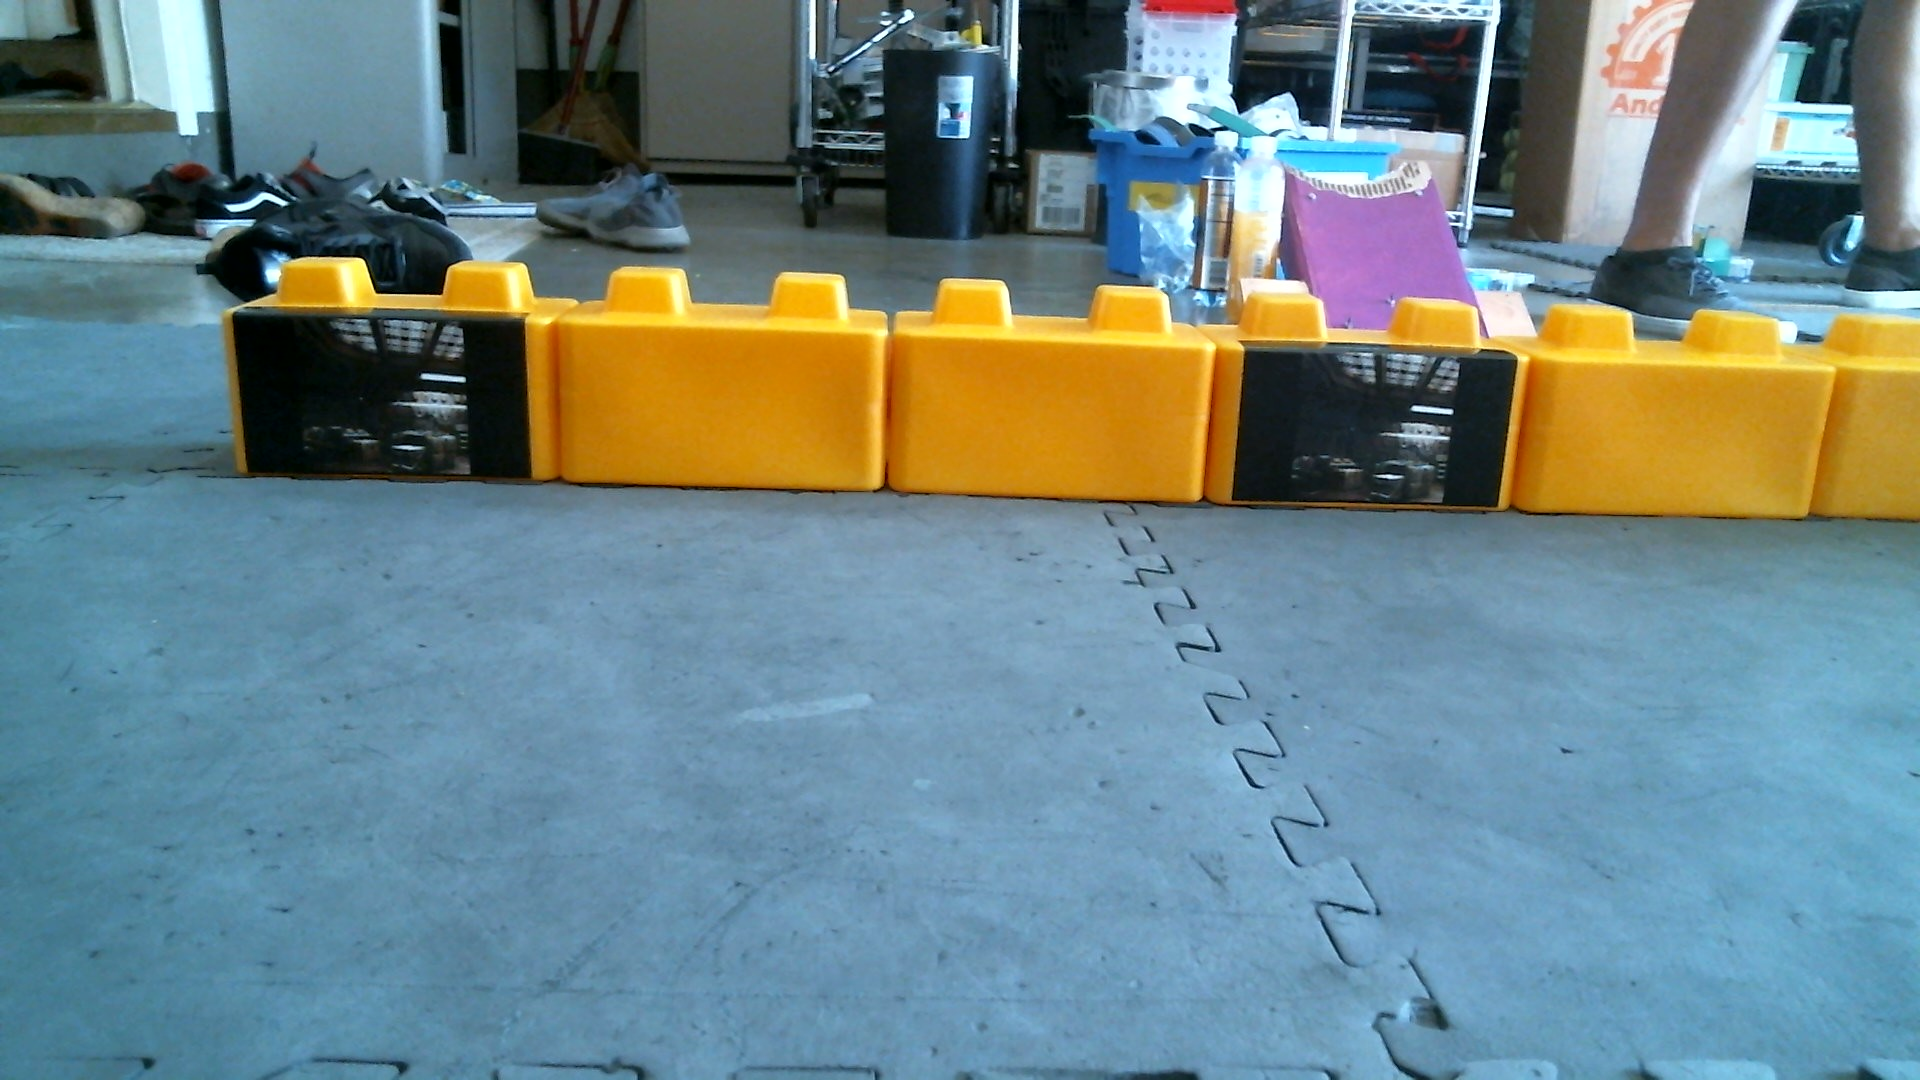skystone: (222, 255, 576, 491), (1196, 287, 1534, 516)
stone: (553, 261, 887, 491), (887, 274, 1212, 505), (1526, 301, 1829, 524), (1820, 313, 1920, 524)
